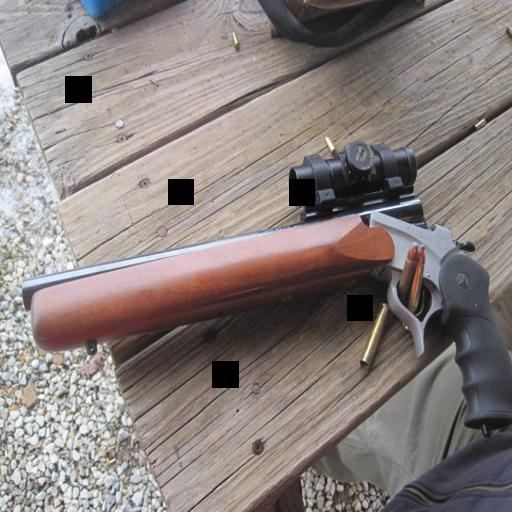Handgun: (21, 153, 510, 435)
